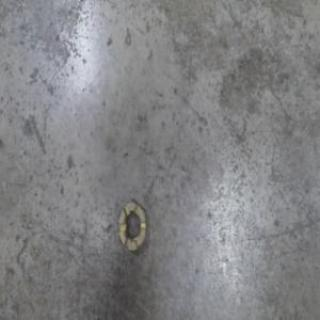Nuttrack_idkeyframe: (117, 196, 148, 255)
